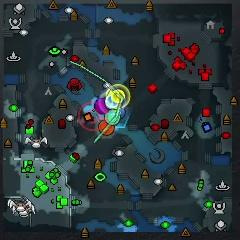Other: (111, 89, 125, 103), (105, 95, 118, 109)
p1: (121, 101, 127, 120)
p2: (104, 109, 121, 125)
p3: (94, 98, 109, 114)
p5: (98, 120, 115, 137)
